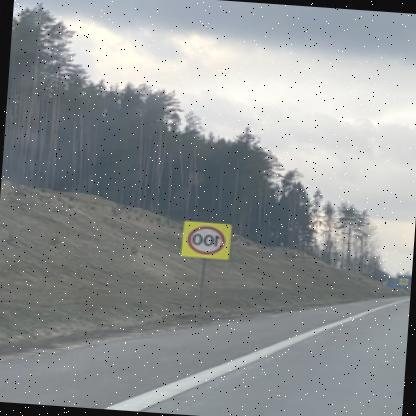speedlimit: (189, 224, 229, 255)
